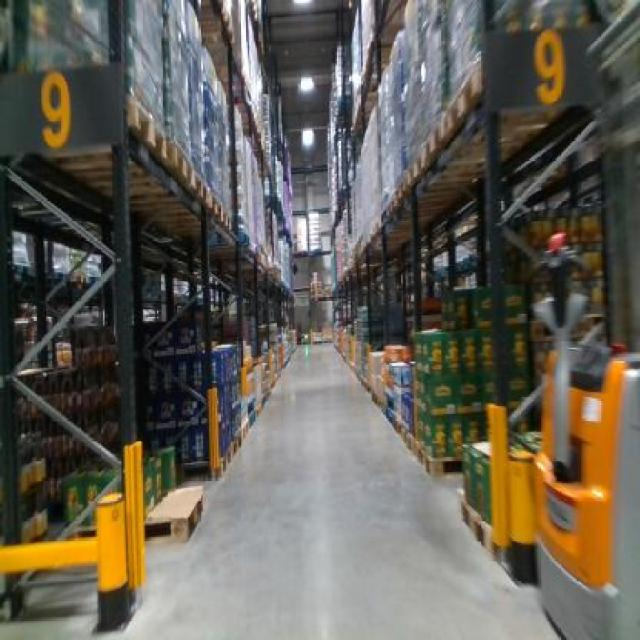ground: (0, 340, 560, 638)
pallet: (383, 53, 486, 223), (124, 90, 238, 236), (177, 389, 270, 483), (390, 409, 468, 480), (143, 483, 208, 552), (453, 489, 506, 568)
